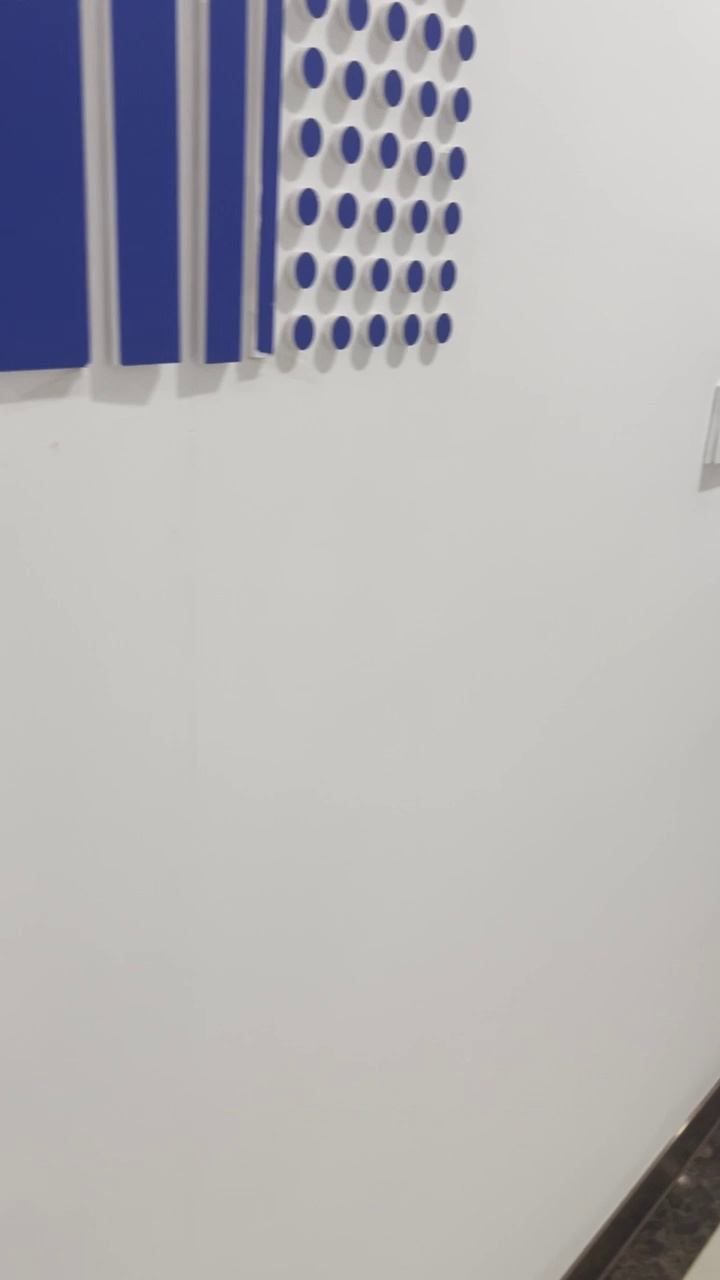button: (701, 380, 720, 463)
